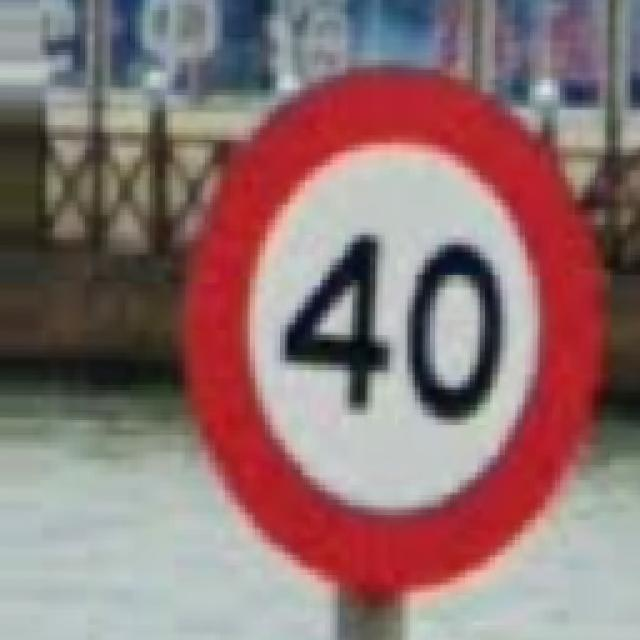Speed Limit -40-: (185, 68, 602, 595)
